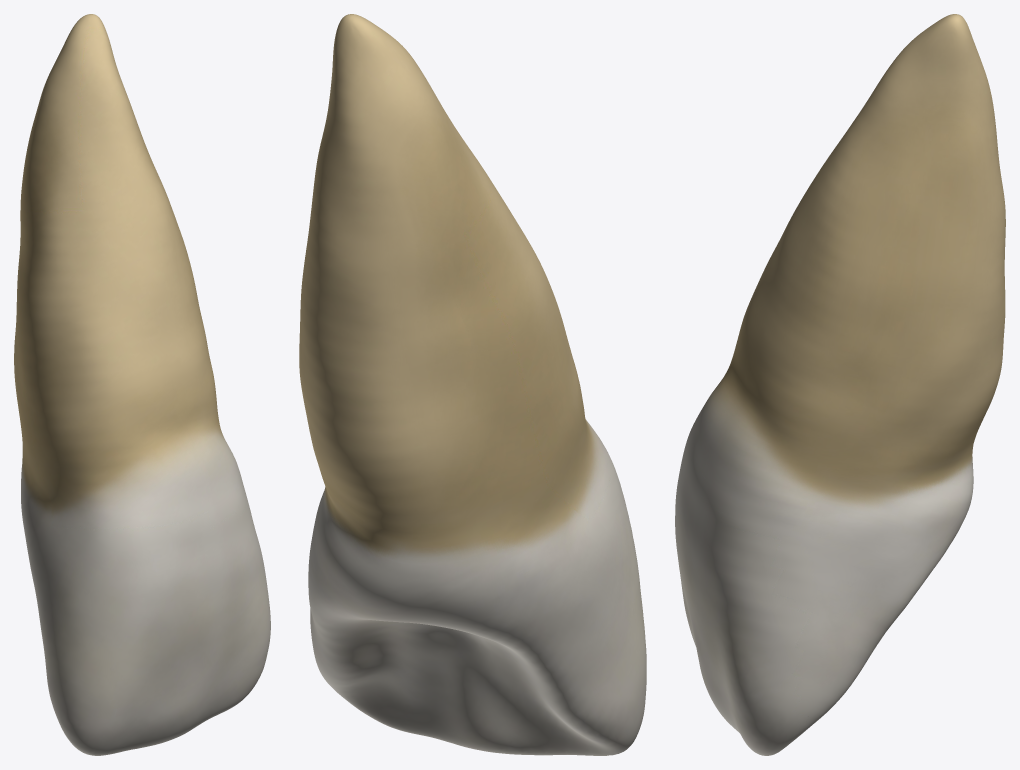
The model's file is maxillary_left_central_incisor.glb.
3 views of the same model, side by side, from view 1: azimuth 30°, elevation 25°; view 2: azimuth 150°, elevation 25°; view 3: azimuth 270°, elevation 25° (orthographic). The views are drawn at different scales.
Parts seen in each view (by area): view 1: Object_2; view 2: Object_2; view 3: Object_2.
Part boxes in pixels (x1,y1,x2,y2): Object_2: (14,14,270,755); Object_2: (299,14,646,755); Object_2: (675,14,1005,755).
Size of the model in its own units: 0.32 by 0.8746 by 0.3642.
Materials: 1 (1 with a texture image).
